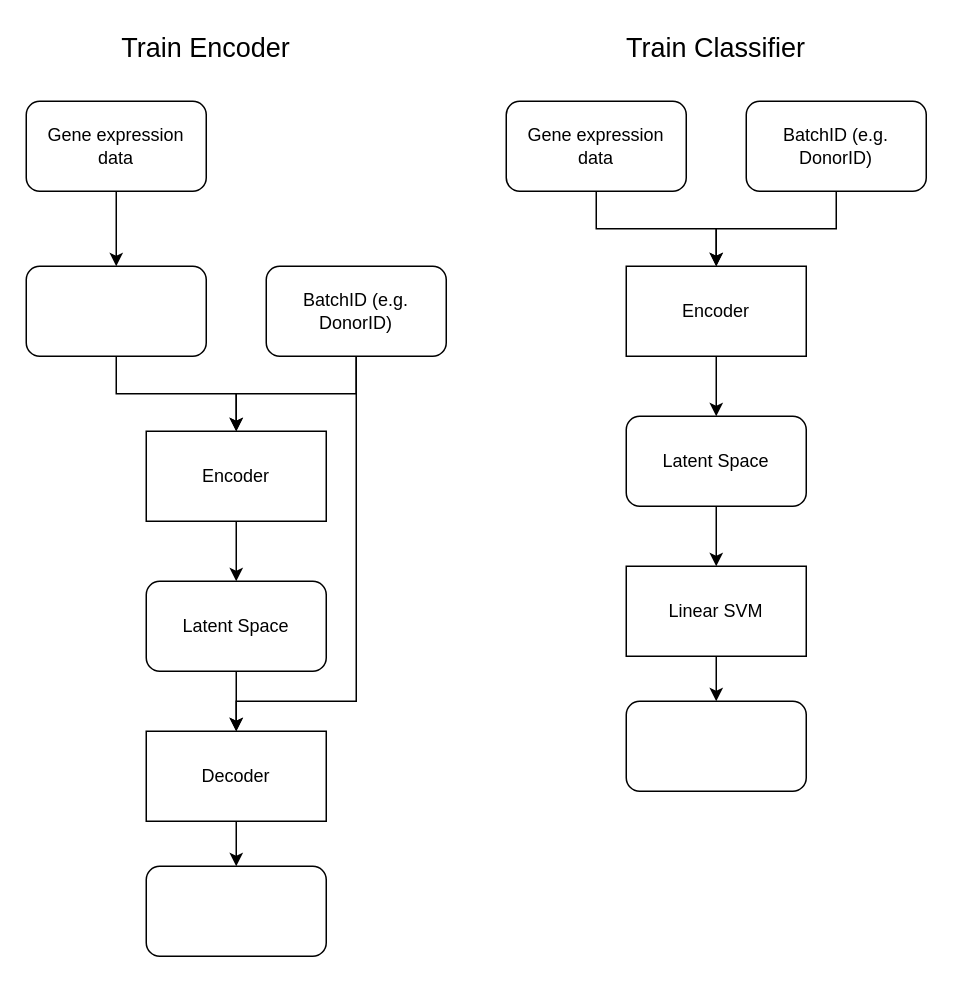
Some shapes in this 953 by 983 pixel diagram are drawn without their labels. Each missing label, with the centre of its shape:
"Noise" goes at pixel 115 310.
"Predictions" goes at pixel 715 745.
"Reconstructed Input" goes at pixel 235 910.
